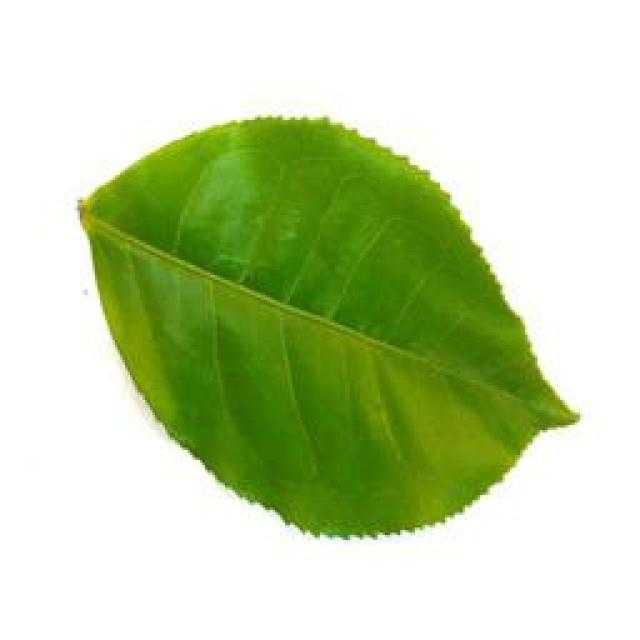Healthy: (75, 93, 586, 534)
